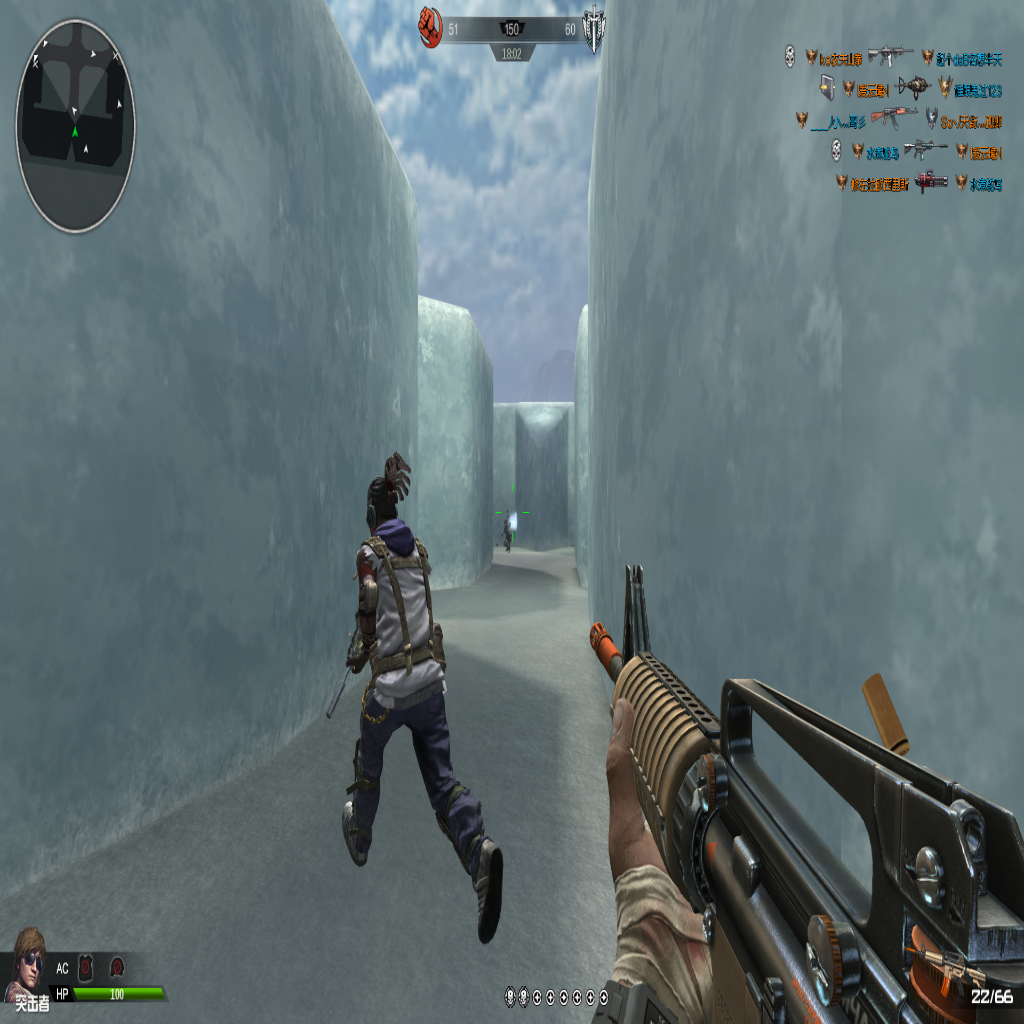ct: (502, 517, 510, 550)
tt: (336, 446, 507, 946)
